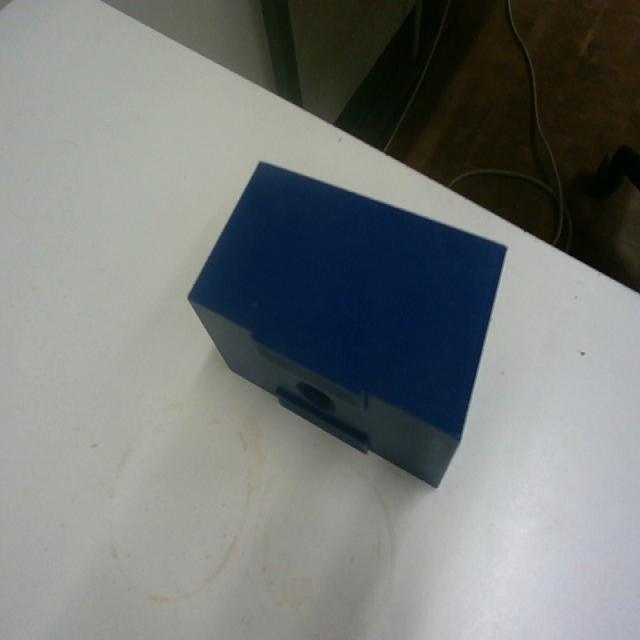Blue Cuboid: (185, 156, 509, 489)
